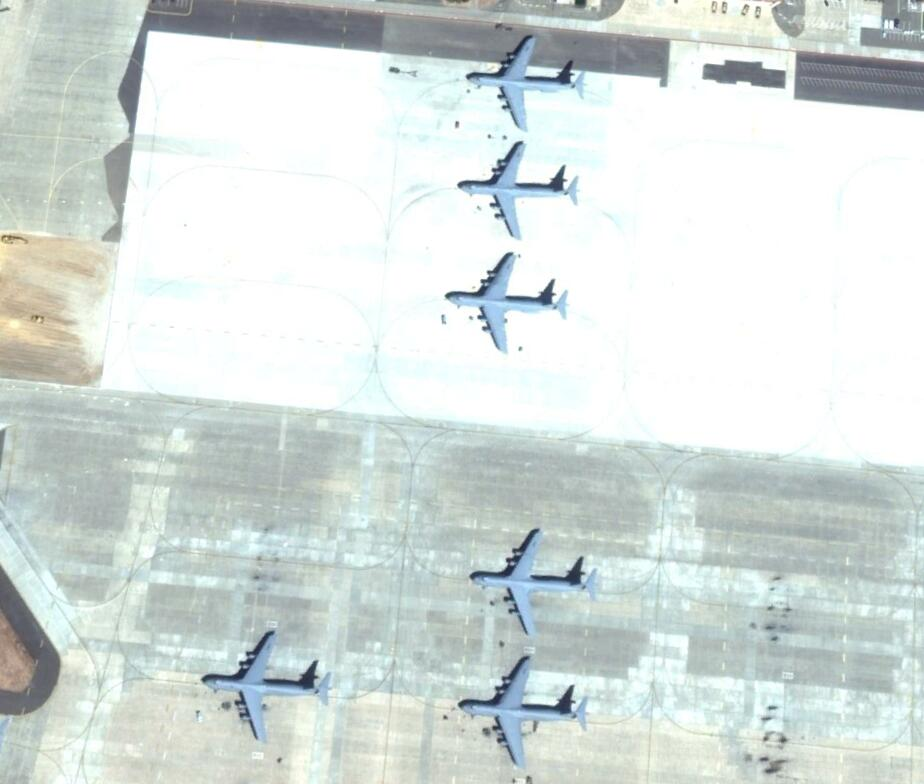A4: (461, 651, 590, 768), (202, 627, 331, 744), (472, 527, 600, 634), (463, 32, 591, 132), (447, 253, 571, 355), (457, 139, 582, 236)
